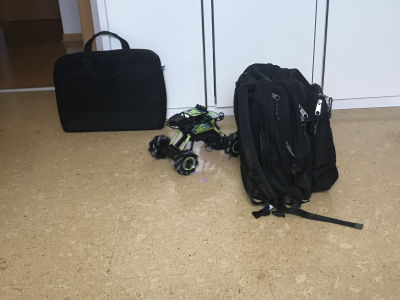remote control car: (145, 101, 240, 178)
